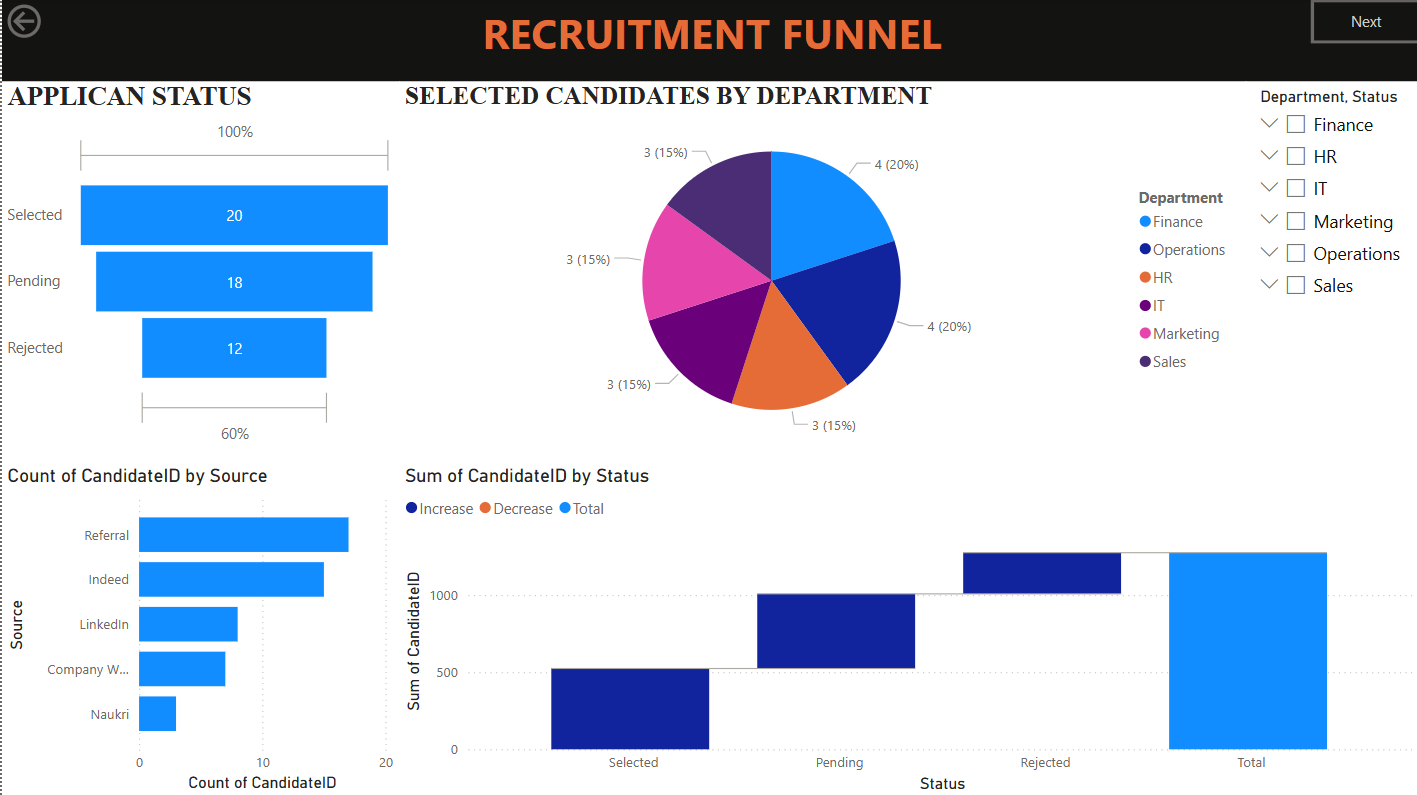

What the dashboard file says about the page in this screenshot:
{"tool":"powerbi","page":{"name":"Recruitment Funnel","canvas":[1280,720],"ordinal":3},"visuals":[{"type":"textbox","box":[0,0,1280.3,74.1],"z":0},{"type":"funnel","title":"APPLICAN STATUS","fields":{"Y":["CountNonNull(Recruitment.CandidateID)"],"Category":["Recruitment.Status"]},"box":[0,74.1,358.1,334.8],"z":1000},{"type":"barChart","fields":{"Y":["CountNonNull(Recruitment.CandidateID)"],"Category":["Recruitment.Source"]},"box":[0,419,358,301],"z":2000},{"type":"pieChart","title":"SELECTED CANDIDATES BY DEPARTMENT","fields":{"Category":["Recruitment.Department"],"Y":["CountNonNull(Recruitment.CandidateID)"],"Series":["Recruitment.Status"]},"box":[358.1,74.1,764.3,334.8],"z":3000},{"type":"waterfallChart","fields":{"Y":["Sum(Recruitment.CandidateID)"],"Category":["Recruitment.Status"]},"box":[358,419,922,301],"z":4000},{"type":"slicer","fields":{"Values":["Recruitment.Department","Recruitment.Status"]},"box":[1122,74,158,335],"z":5000},{"type":"actionButton","box":[0,0,100,40],"z":6000},{"type":"actionButton","box":[1180,0,100.3,40.4],"z":7000}]}

Visuals, with their boxes in screenshot pixels (x1, y1, x2, y2), scaled from the page's 1280x720 canvas onto the 1417x795 screenshot:
textbox: left=0, top=0, right=1416, bottom=82
"APPLICAN STATUS" funnel: left=0, top=82, right=396, bottom=451
barChart - CountNonNull(Recruitment.CandidateID) x Recruitment.Source: left=0, top=463, right=396, bottom=794
"SELECTED CANDIDATES BY DEPARTMENT" pieChart: left=396, top=82, right=1243, bottom=451
waterfallChart - Sum(Recruitment.CandidateID) x Recruitment.Status: left=396, top=463, right=1416, bottom=794
slicer - Recruitment.Department x Recruitment.Status: left=1242, top=82, right=1416, bottom=452
actionButton: left=0, top=0, right=111, bottom=44
actionButton: left=1306, top=0, right=1416, bottom=45
